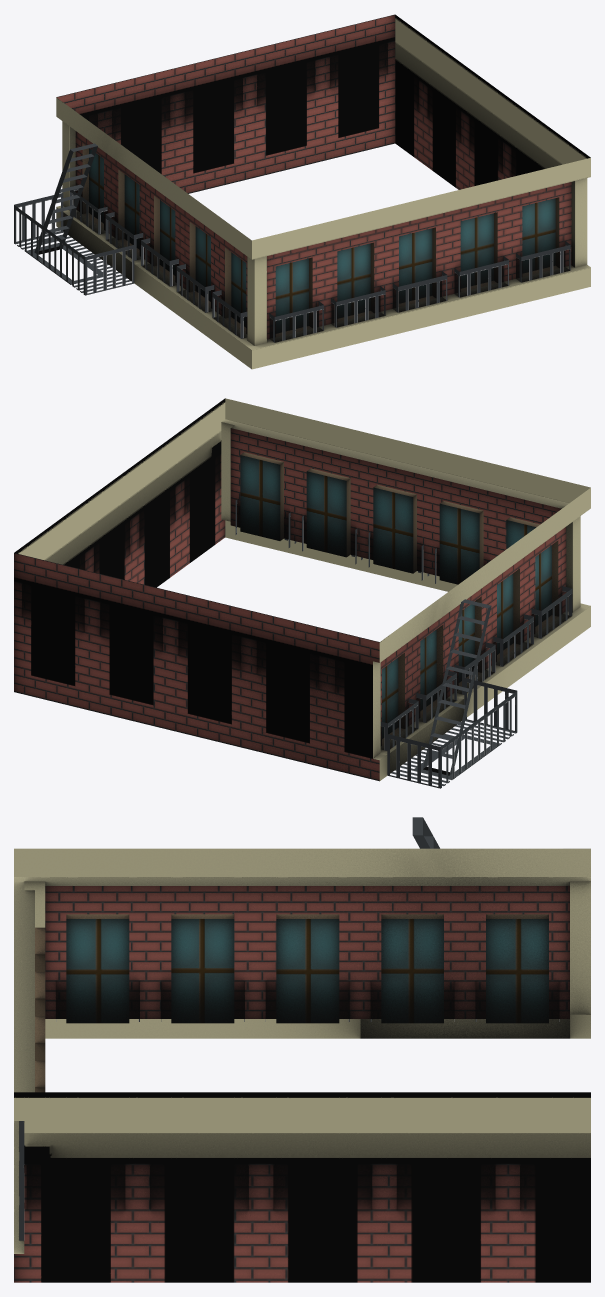
Rendered from building corner floor.fbx.
3 renders of one model, top to bottom at view 1: azimuth 30°, elevation 25°; view 2: azimuth 150°, elevation 25°; view 3: azimuth 270°, elevation 25°, orthographic. The views are drawn at different scales.
Parts seen in each view (by area): view 1: Building Corner Floor.001; view 2: Building Corner Floor.001; view 3: Building Corner Floor.001.
Part boxes in pixels (<box>): Building Corner Floor.001: <box>14,14,590,369</box>; Building Corner Floor.001: <box>14,398,590,788</box>; Building Corner Floor.001: <box>14,817,590,1282</box>.
Bounding box in the file's own units: 630 × 200 × 550.
